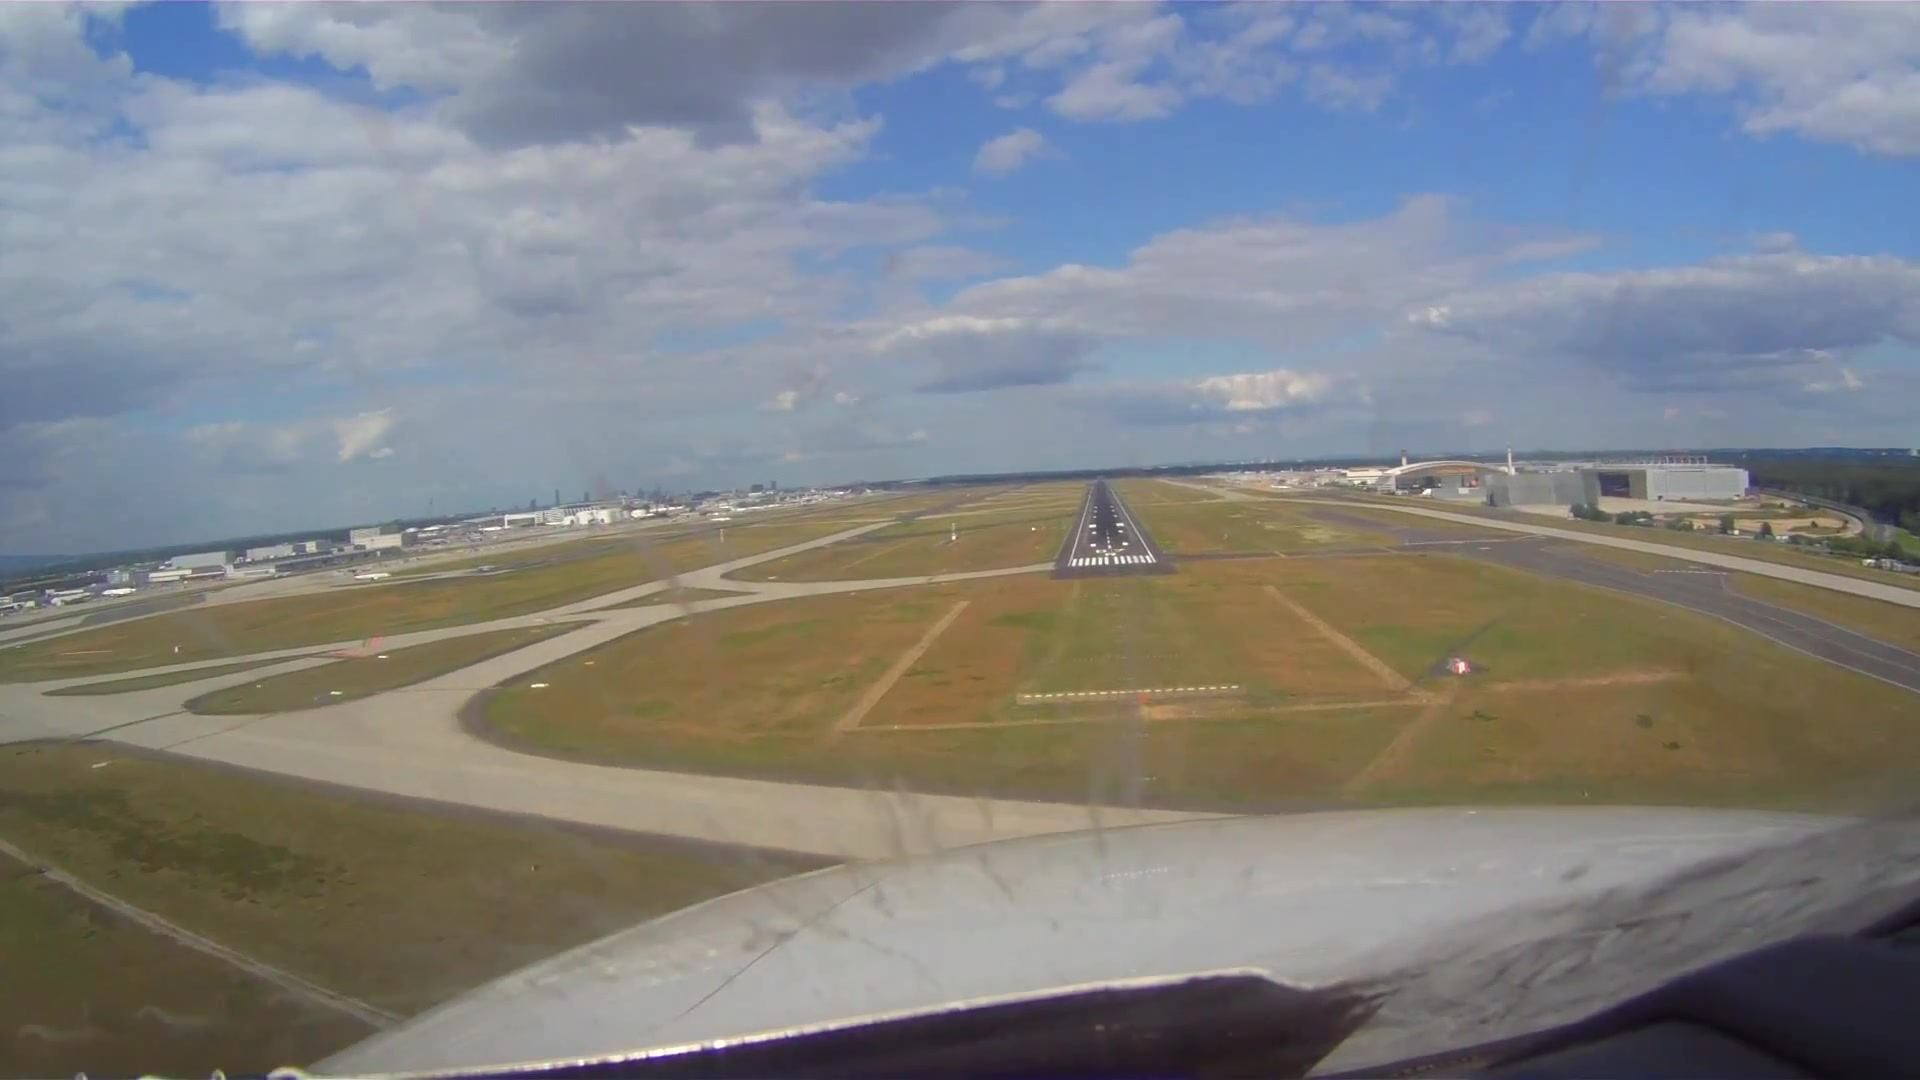entrance: (1067, 554, 1155, 566)
runway: (1048, 483, 1174, 580)
